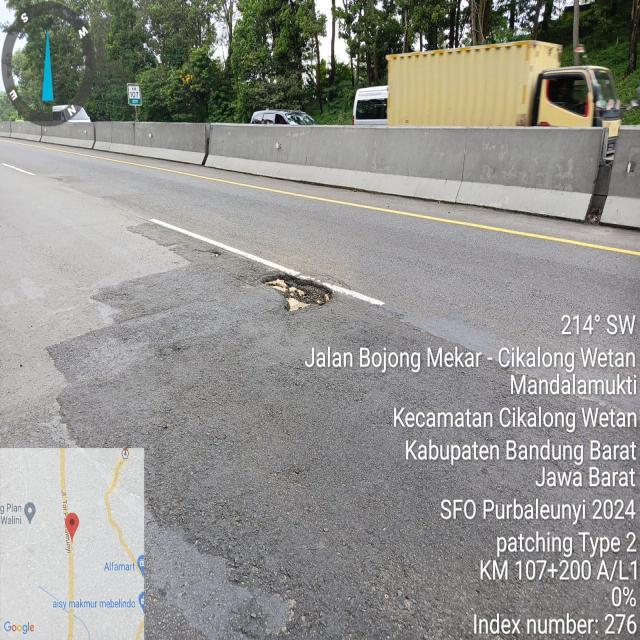Buraco: (250, 268, 337, 314), (188, 247, 224, 260)
